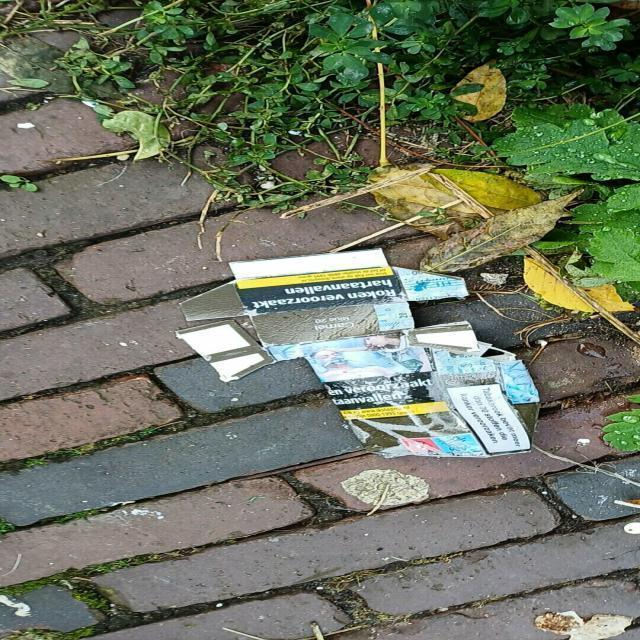Paper: (168, 246, 544, 459)
